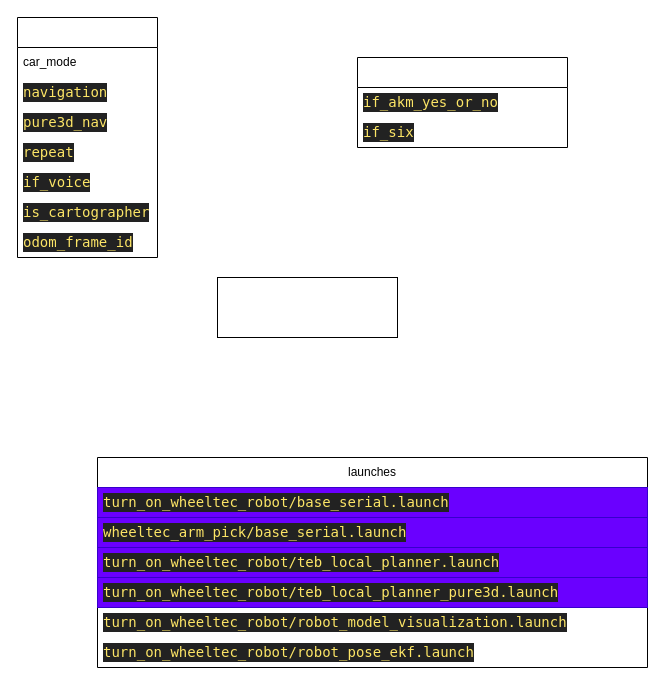
Image size: 665x685. Some labels were removed from this diagram. The box of each missing label's shape, as (x1, y1, x2, y2) in pixels:
args: (16, 16, 158, 258)
params: (356, 56, 568, 148)
turn_on_wheeltec_robot: (216, 276, 398, 338)
